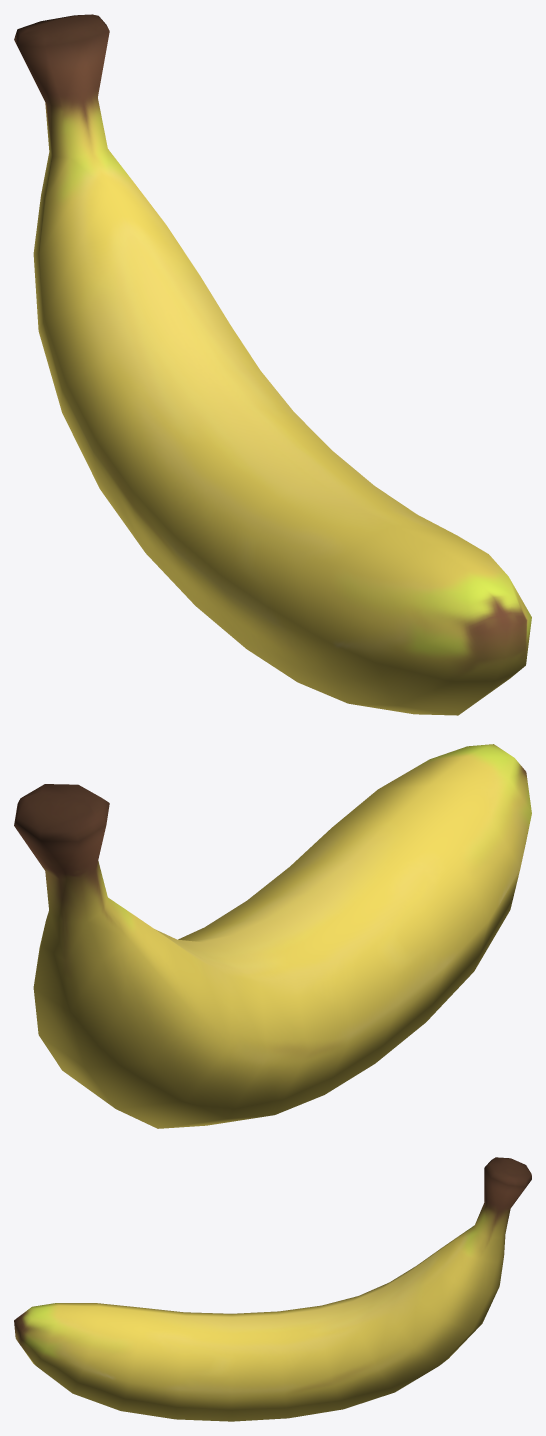
The model's file is Banana.fbx.
3 renders of one model, top to bottom at view 1: azimuth 30°, elevation 25°; view 2: azimuth 150°, elevation 25°; view 3: azimuth 270°, elevation 25°, orthographic. The views are drawn at different scales.
Visible parts, largest first — view 1: Banana; view 2: Banana; view 3: Banana.
Boxes of the visible parts, bbox=[...] form: Banana: bbox=[14, 14, 531, 715]; Banana: bbox=[14, 744, 531, 1128]; Banana: bbox=[14, 1157, 531, 1421].
Bounding box in the file's own units: 0.0292 × 0.0725 × 0.1338.
Materials: 1 (1 with a texture image).
